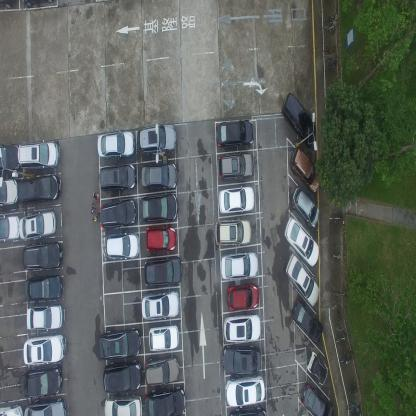car: (281, 91, 315, 152), (286, 252, 320, 308), (284, 217, 320, 268), (291, 296, 322, 346), (98, 328, 141, 362), (288, 147, 319, 194), (23, 334, 65, 367), (22, 242, 63, 275), (18, 172, 60, 204), (225, 372, 264, 406), (21, 367, 63, 398), (103, 361, 142, 394), (17, 141, 59, 171), (144, 386, 186, 416), (291, 186, 318, 232), (216, 117, 254, 149), (140, 289, 181, 318), (101, 198, 138, 230), (19, 208, 56, 240), (139, 122, 176, 154), (140, 159, 177, 191), (300, 381, 334, 415), (140, 194, 177, 225), (144, 255, 181, 286), (220, 250, 258, 280), (223, 314, 261, 344), (97, 129, 134, 159), (221, 347, 262, 374), (219, 184, 255, 214), (213, 220, 251, 248), (27, 305, 63, 334), (99, 163, 136, 191), (225, 283, 259, 313), (28, 276, 63, 305), (217, 152, 253, 180), (144, 356, 178, 385), (108, 230, 140, 260), (146, 224, 176, 252), (148, 323, 178, 351), (103, 395, 143, 415), (24, 396, 66, 415), (305, 352, 327, 388), (0, 140, 20, 175), (0, 214, 19, 242), (0, 178, 18, 206)
